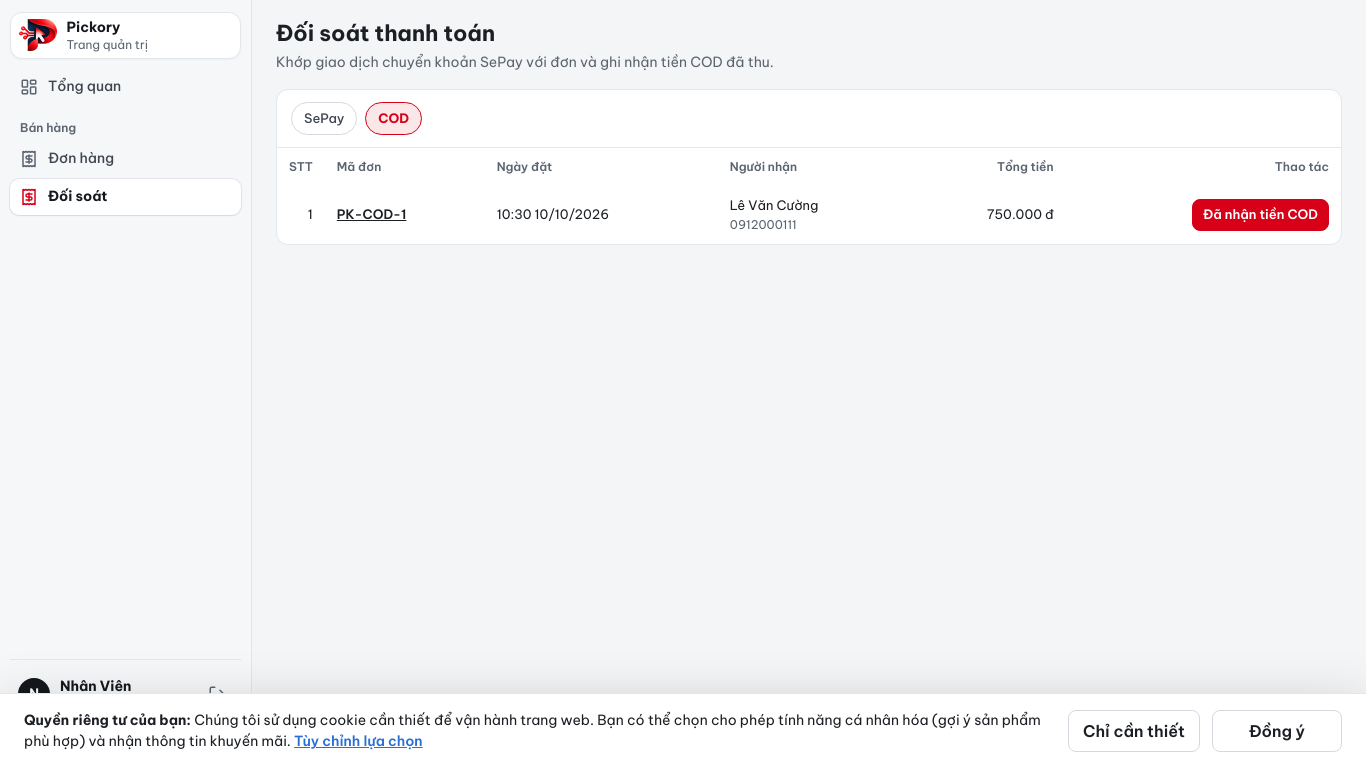
Test case: màn đối soát: tab COD › xác nhận gọi cod-receipt của đơn
What coordinates should you click on to do the following:
click the button "Đã nhận tiền COD"
I would click on:
 (1260, 215)
Its box is [1192,199,1329,231].
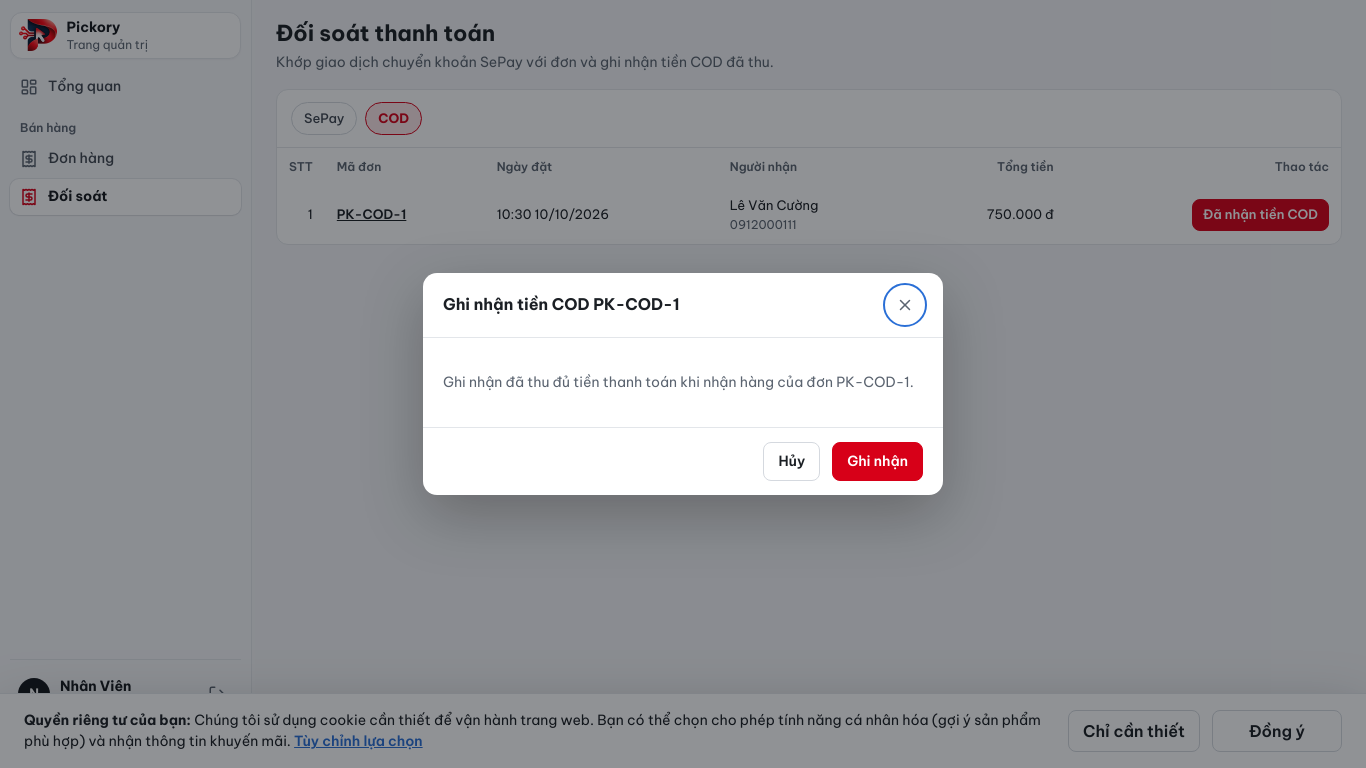
Expected: the dialog is shown, [423,273,943,495]
What coordinates should you click on to do the following:
click the button "Ghi nhận"
I would click on:
 (878, 462)
Its box is [832,442,923,481].
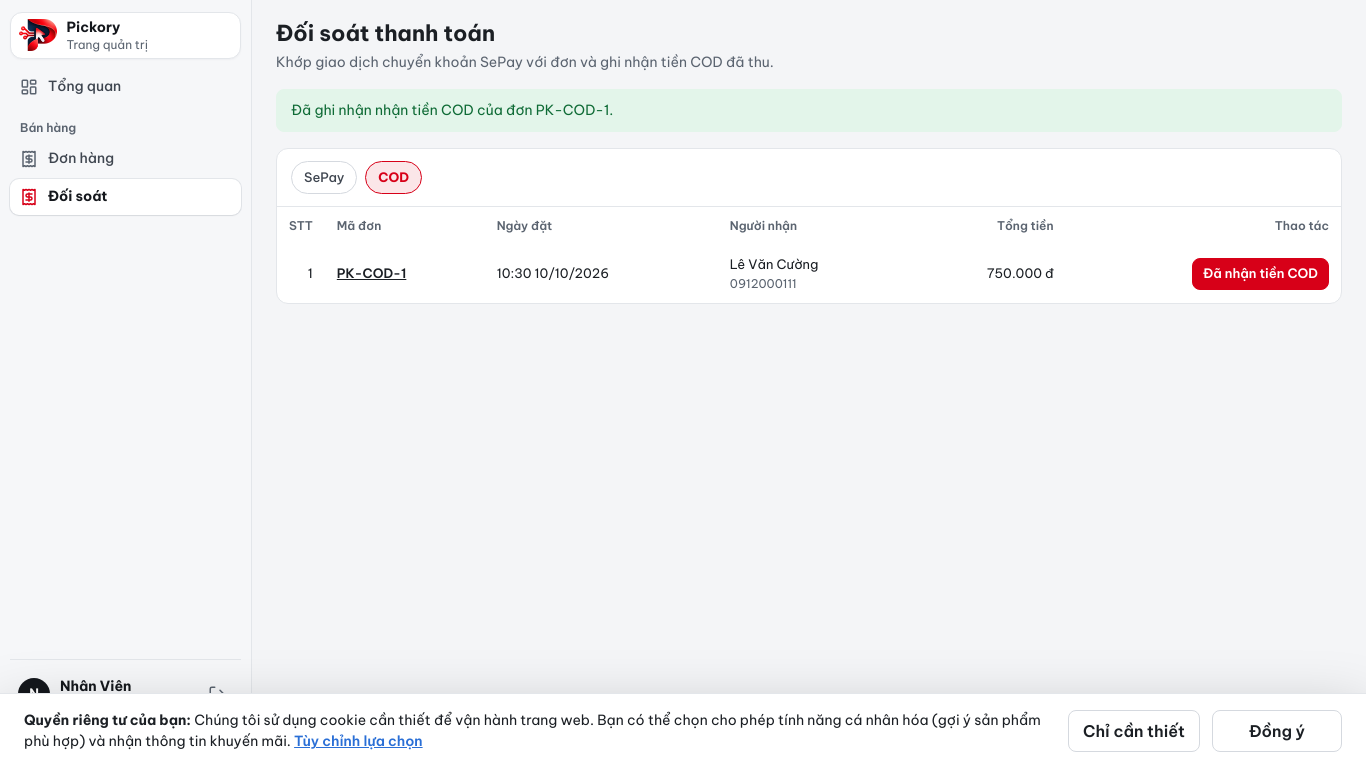
Expected: the message "Đã ghi nhận nhận tiền COD của đơn PK-COD-1." is shown, [276,88,1342,132]
